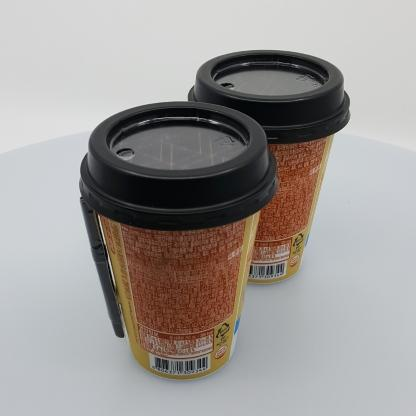--------------250ML: (79, 101, 279, 380), (187, 50, 350, 284)
